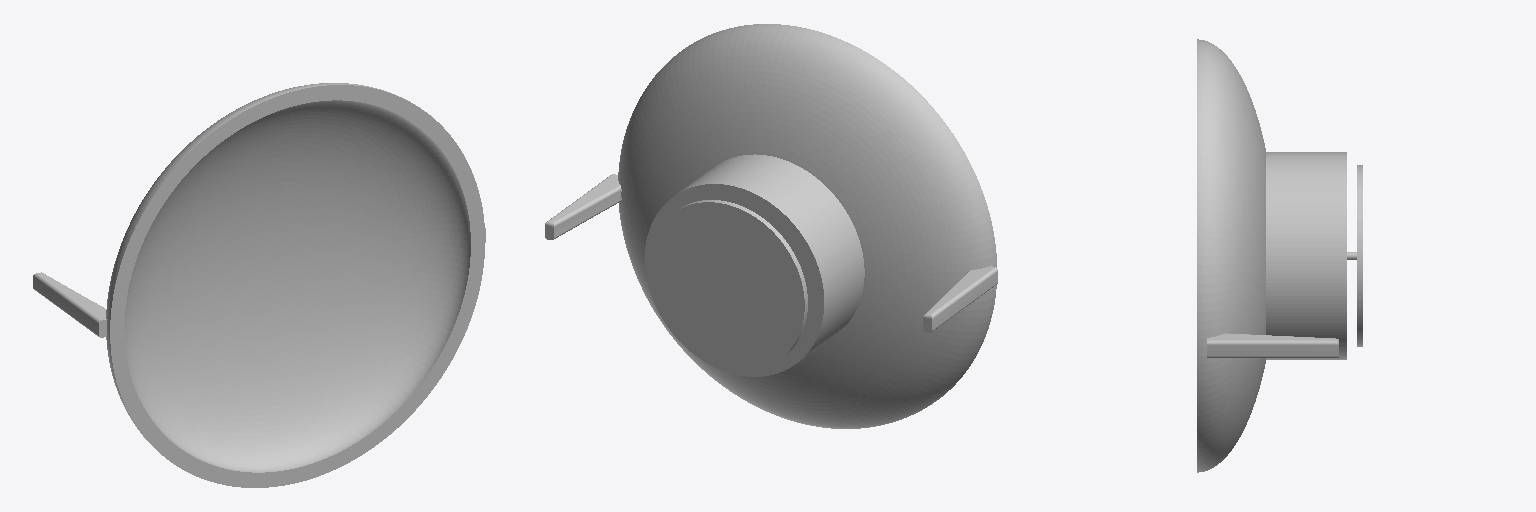
Rendered from plate_dips.obj.
The picture shows the model from 3 angles: view 1: azimuth 30°, elevation 25°; view 2: azimuth 150°, elevation 25°; view 3: azimuth 270°, elevation 25°; orthographic projection.
Parts seen in each view (by area): view 1: mesh24, mesh25, mesh26, mesh12, mesh21; view 2: mesh26, mesh34, mesh28, mesh29, mesh12, mesh33, mesh8, mesh9, mesh21; view 3: mesh26, mesh28, mesh0, mesh33, mesh4.
Boxes of the visible parts, box(x1,y1,x2,y2) form: mesh24: box(124, 100, 470, 472); mesh25: box(110, 85, 484, 487); mesh26: box(106, 83, 409, 438); mesh12: box(33, 277, 98, 334); mesh21: box(38, 273, 106, 319); mesh26: box(618, 24, 996, 428); mesh34: box(648, 202, 804, 370); mesh28: box(676, 154, 864, 361); mesh29: box(645, 184, 823, 376); mesh12: box(932, 272, 997, 329); mesh33: box(675, 200, 807, 354); mesh8: box(554, 190, 621, 237); mesh9: box(551, 174, 619, 221); mesh21: box(928, 266, 993, 313); mesh26: box(1197, 39, 1265, 472); mesh28: box(1266, 152, 1346, 359); mesh0: box(1207, 345, 1338, 355); mesh33: box(1357, 165, 1362, 346); mesh4: box(1207, 340, 1338, 344).
Bounding box in the file's own units: 0.248 × 0.24 × 0.0924.